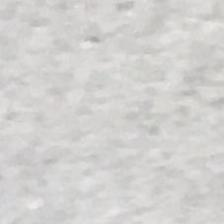Non_Crack: (18, 21, 202, 194)
